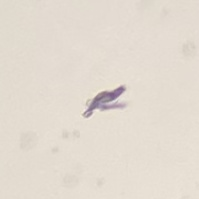microplastic: (82, 85, 126, 118)
